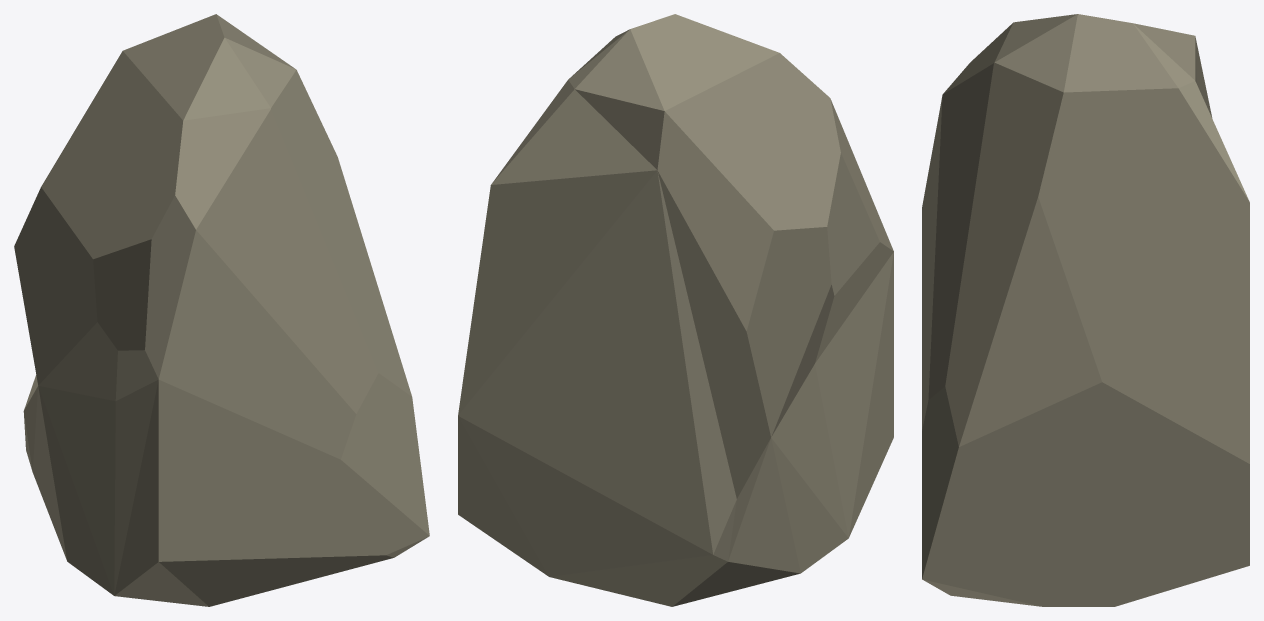
File: rock2.fbx
The picture shows the model from 3 angles, left to right: view 1: azimuth 30°, elevation 25°; view 2: azimuth 150°, elevation 25°; view 3: azimuth 270°, elevation 25°; orthographic projection. The views are drawn at different scales.
Parts seen in each view (by area): view 1: Cube; view 2: Cube; view 3: Cube.
Part boxes in pixels (x1=…): Cube: x1=14, y1=14, x2=429, y2=606; Cube: x1=458, y1=14, x2=893, y2=606; Cube: x1=922, y1=14, x2=1249, y2=606.
Size of the model in its own units: 200 by 354 by 200.
